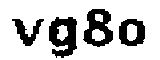8: (81, 6, 114, 49)
g: (47, 15, 79, 60)
o: (118, 16, 149, 51)
v: (8, 11, 43, 48)
